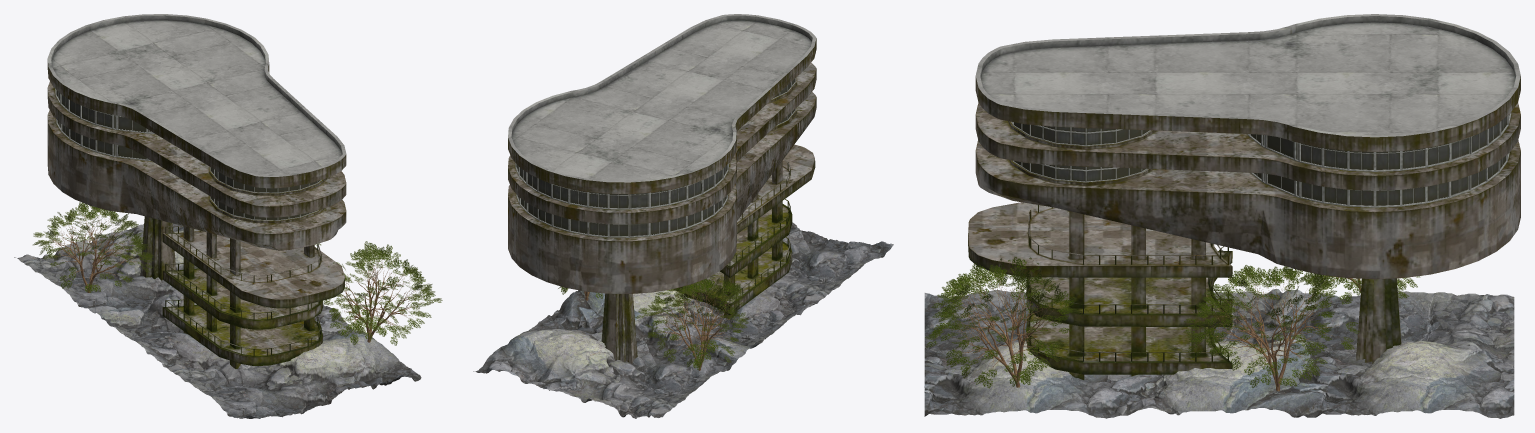
File: brutalist_building.glb
3 renders of one model, left to right at view 1: azimuth 30°, elevation 25°; view 2: azimuth 150°, elevation 25°; view 3: azimuth 270°, elevation 25°, orthographic. The views are drawn at different scales.
Parts seen in each view (by area): view 1: Cylinder_3, Plane_4, leaves.002_2, leaves_0; view 2: Cylinder_3, Plane_4, leaves_0; view 3: Cylinder_3, Plane_4, leaves.001_1, leaves.002_2, leaves_0.
Boxes of the visible parts, left/top/right/bottom form: Cylinder_3: left=47, top=14, right=346, bottom=368; Plane_4: left=14, top=223, right=421, bottom=418; leaves.002_2: left=322, top=241, right=442, bottom=345; leaves_0: left=33, top=202, right=153, bottom=292; Cylinder_3: left=508, top=14, right=816, bottom=363; Plane_4: left=473, top=222, right=893, bottom=418; leaves_0: left=635, top=277, right=748, bottom=370; Cylinder_3: left=968, top=14, right=1520, bottom=379; Plane_4: left=924, top=289, right=1514, bottom=418; leaves.001_1: left=1183, top=265, right=1359, bottom=391; leaves.002_2: left=925, top=256, right=1076, bottom=388; leaves_0: left=1297, top=269, right=1421, bottom=301.
Bounding box in the file's own units: 15.95 × 13.52 × 25.03.
4 materials, 4 textured.
